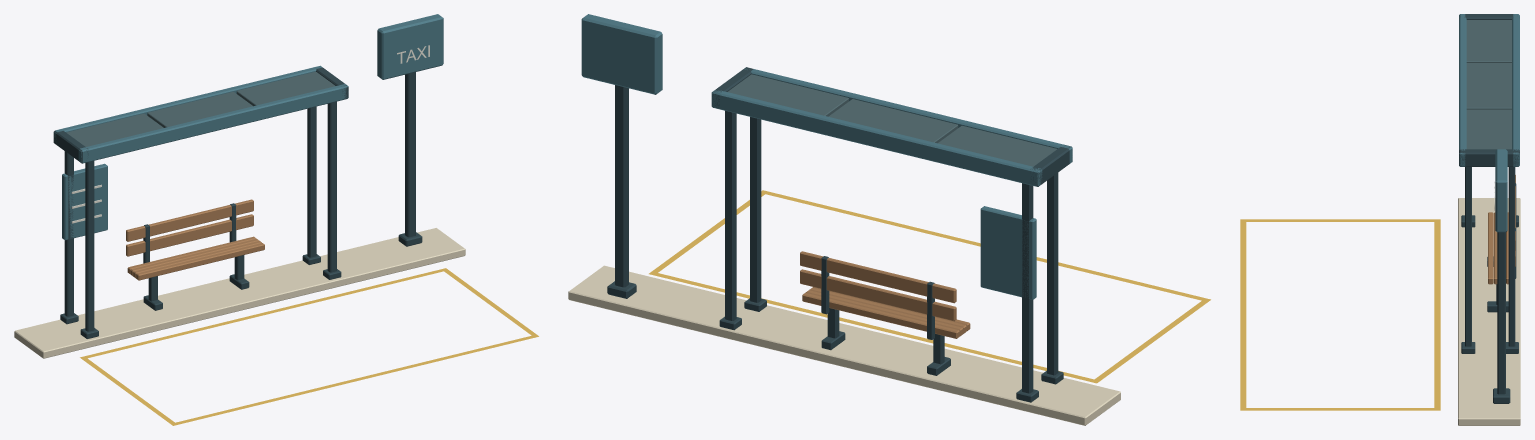
Rendered from taxi-stop-01.glb.
3 renders of one model, left to right at view 1: azimuth 30°, elevation 25°; view 2: azimuth 150°, elevation 25°; view 3: azimuth 270°, elevation 25°, orthographic. The views are drawn at different scales.
Visible parts, largest first — view 1: SidewalkPad, CanopyFascia, TaxiStopRoadDecal, StopSign, TaxiInfoBlade, StopPole, CanopyPanel.001, CanopyColumn.002, CanopyColumn, CanopyPanel.002, CanopyPanel, BenchBack.001 (+6 smaller); view 2: SidewalkPad, CanopyFascia.001, StopSign, TaxiInfoBlade, TaxiStopRoadDecal, StopPole, CanopyPanel.001, CanopyColumn.003, CanopyPanel.002, CanopyColumn, CanopyPanel, BenchBack.001 (+8 smaller); view 3: SidewalkPad, TaxiStopRoadDecal, CanopyPanel.001, CanopyPanel, CanopyPanel.002, StopPole, CanopyColumn.003, CanopyColumn.002, CanopyFascia.001, CanopyFascia, StopSign, CanopySide.001 (+2 smaller).
Boxes of the visible parts, bbox=[...] form: SidewalkPad: bbox=[14, 228, 465, 358]; CanopyFascia: bbox=[78, 84, 348, 163]; TaxiStopRoadDecal: bbox=[80, 268, 538, 425]; StopSign: bbox=[377, 14, 443, 79]; TaxiInfoBlade: bbox=[62, 163, 107, 240]; StopPole: bbox=[405, 72, 415, 237]; CanopyPanel.001: bbox=[147, 91, 252, 127]; CanopyColumn.002: bbox=[327, 101, 336, 272]; CanopyColumn: bbox=[85, 161, 94, 331]; CanopyPanel.002: bbox=[236, 71, 335, 106]; CanopyPanel: bbox=[66, 113, 163, 146]; BenchBack.001: bbox=[126, 199, 253, 241]; SidewalkPad: bbox=[568, 265, 1120, 425]; CanopyFascia.001: bbox=[711, 90, 1042, 186]; StopSign: bbox=[581, 14, 662, 94]; TaxiInfoBlade: bbox=[980, 206, 1036, 299]; TaxiStopRoadDecal: bbox=[649, 190, 1210, 383]; StopPole: bbox=[615, 85, 628, 287]; CanopyPanel.001: bbox=[828, 99, 958, 143]; CanopyColumn.003: bbox=[725, 111, 736, 320]; CanopyPanel.002: bbox=[727, 74, 848, 116]; CanopyColumn: bbox=[1047, 172, 1058, 375]; CanopyPanel: bbox=[938, 125, 1056, 166]; BenchBack.001: bbox=[800, 251, 956, 303]; SidewalkPad: bbox=[1458, 198, 1520, 425]; TaxiStopRoadDecal: bbox=[1240, 219, 1440, 410]; CanopyPanel.001: bbox=[1466, 63, 1511, 109]; CanopyPanel: bbox=[1466, 20, 1511, 62]; CanopyPanel.002: bbox=[1466, 109, 1511, 149]; StopPole: bbox=[1497, 232, 1505, 394]; CanopyColumn.003: bbox=[1508, 167, 1515, 346]; CanopyColumn.002: bbox=[1465, 167, 1471, 346]; CanopyFascia.001: bbox=[1512, 14, 1519, 166]; CanopyFascia: bbox=[1459, 14, 1466, 166]; StopSign: bbox=[1495, 149, 1507, 232]; CanopySide.001: bbox=[1459, 149, 1519, 166].
Bounding box in the file's own units: 6 × 3.08 × 3.22.
